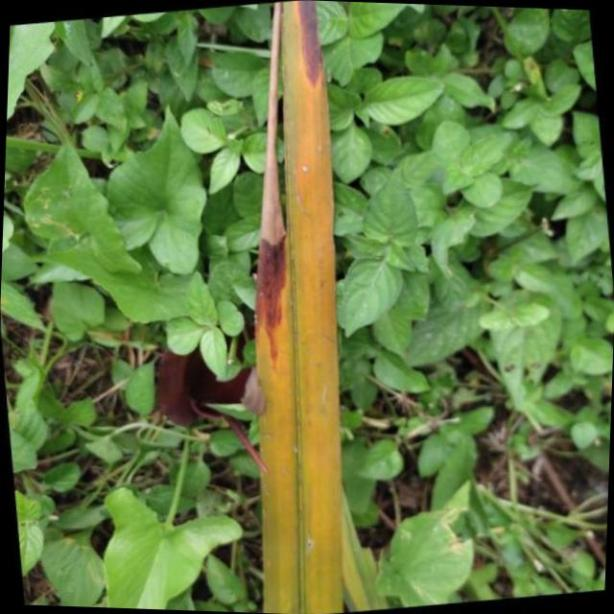Megnesium: (254, 0, 342, 612)
